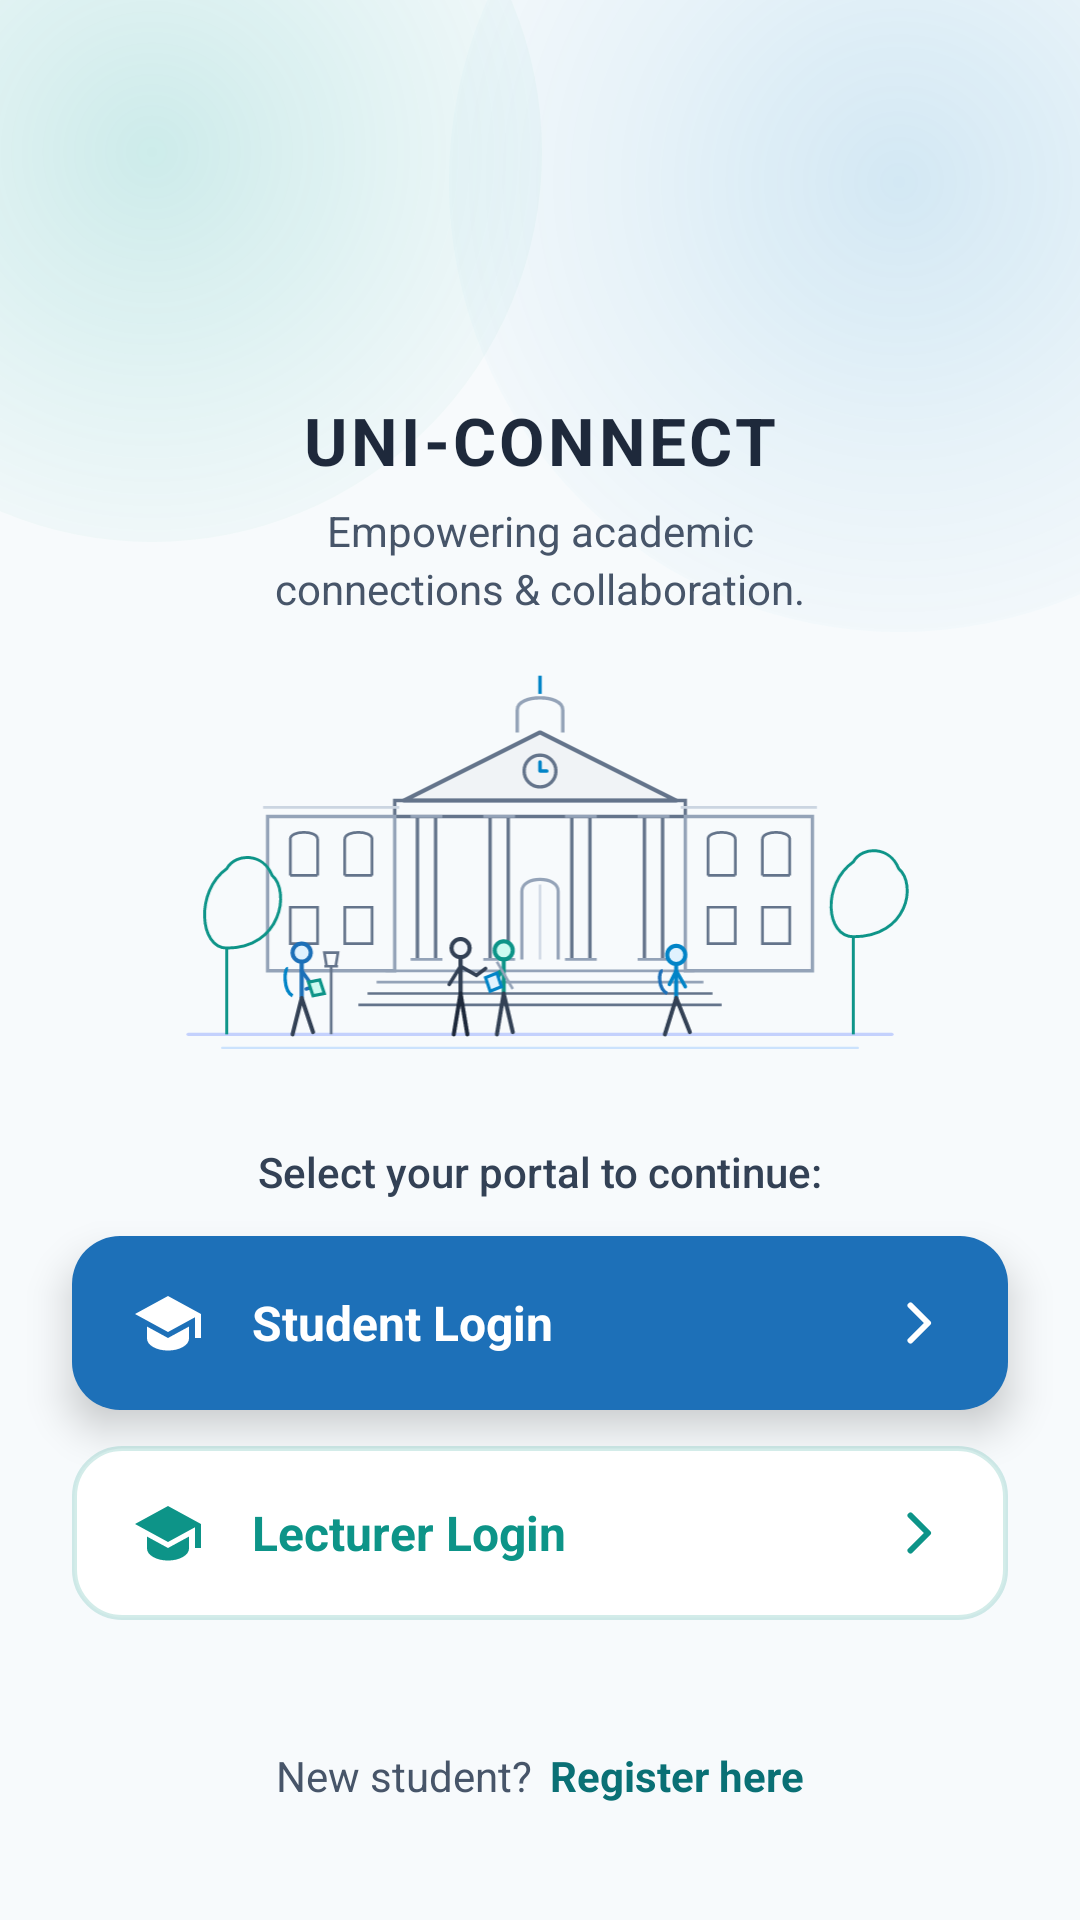

Locate icon controls on the screen. Image size 1080w x 1920h, boxes as bbox(x1, y1, x2, y2).
chevron right: bbox(907, 1302, 931, 1344), bbox(907, 1512, 931, 1554)
graduation cap: bbox(135, 1296, 201, 1351)
lecturer symbol: bbox(135, 1506, 201, 1561)
